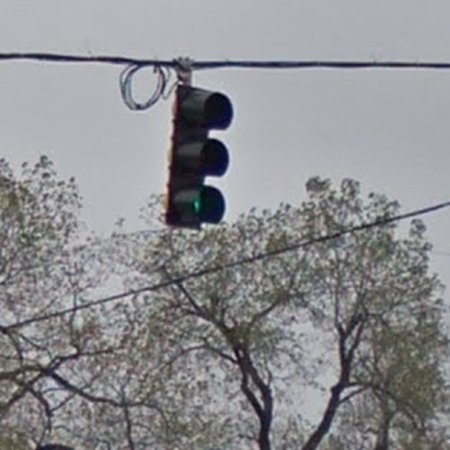汽車: (322, 316, 376, 356)
紅綠燈: (19, 155, 68, 242), (152, 143, 199, 219), (315, 127, 363, 199)
